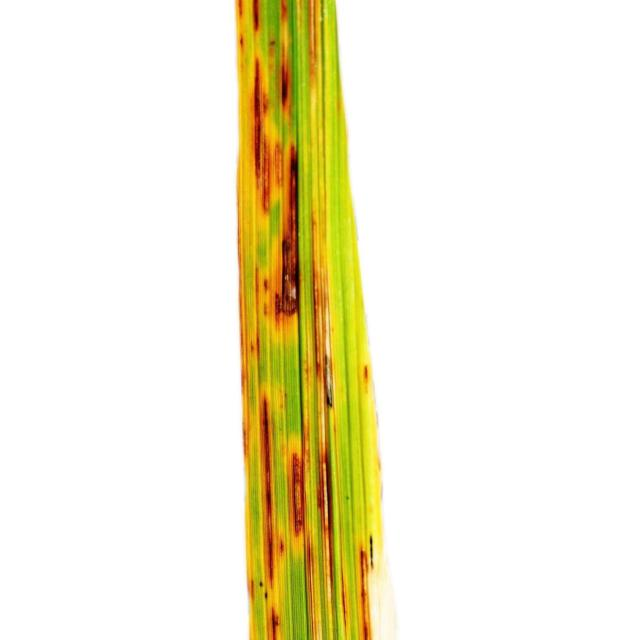Narrow brown: (184, 0, 629, 640)
